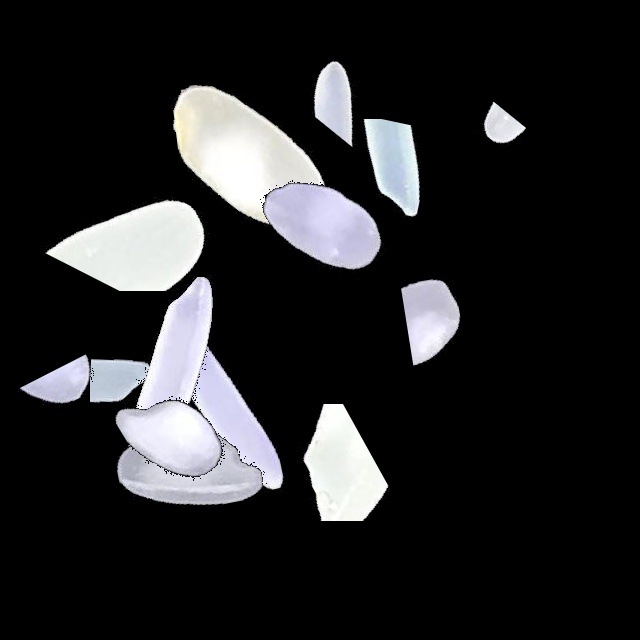Broken: (79, 409, 329, 576), (82, 330, 332, 496), (12, 141, 262, 291), (344, 251, 594, 378), (183, 404, 433, 521), (90, 257, 205, 507), (250, 119, 500, 232), (255, 43, 505, 154), (15, 299, 125, 549), (351, 100, 601, 185)
Full: (98, 284, 348, 534), (124, 27, 374, 277), (45, 248, 295, 498), (64, 343, 314, 593), (198, 102, 448, 352)
